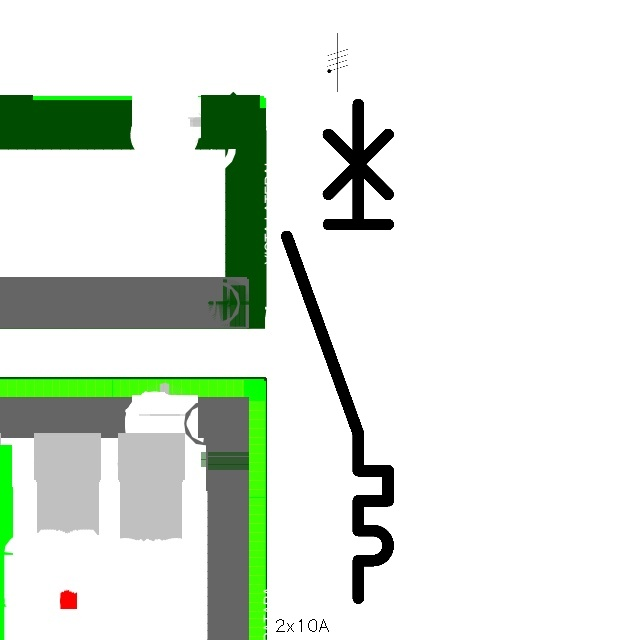interruptor_termomagnetico: (274, 91, 401, 610)
